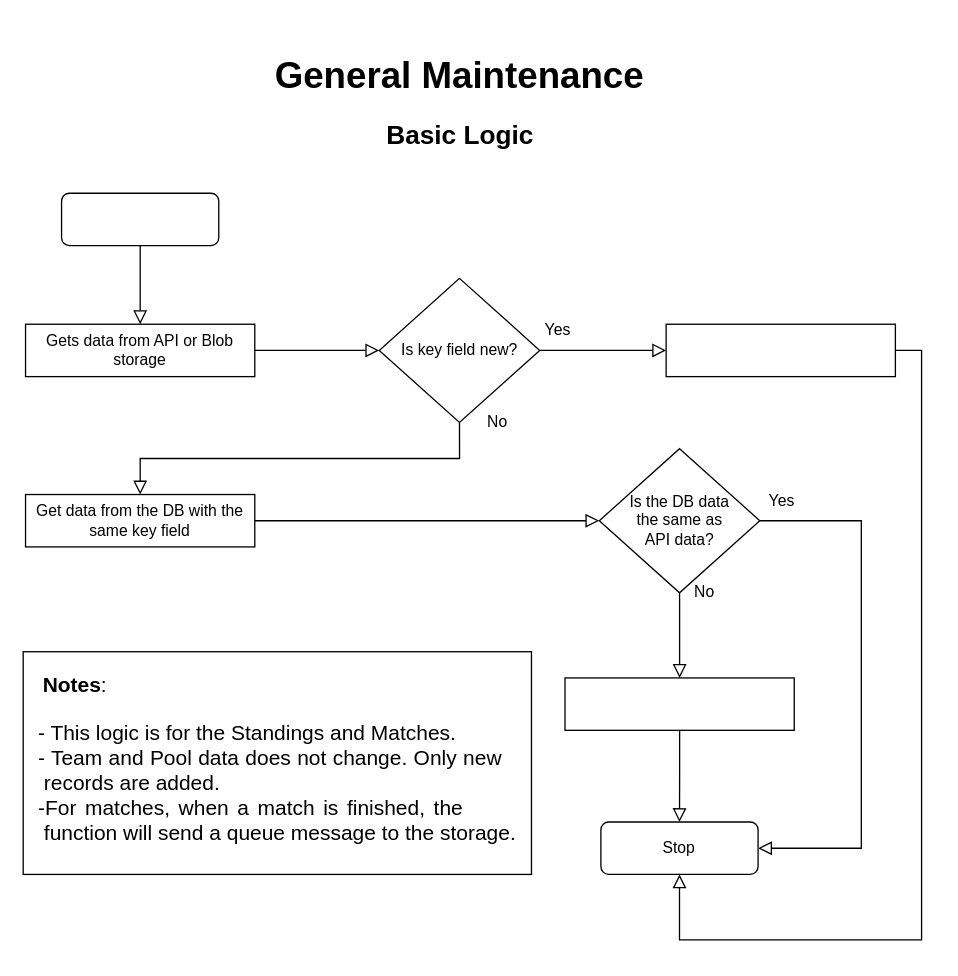
Image size: 958x976. Some labels were removed from this diagram. The box of each missing label's shape, as (x1, y1, x2, y2) in pixels:
Add new record to the DB: (665, 323, 895, 377)
Start: (60, 192, 219, 246)
Update DB fields that have chnaged: (564, 677, 794, 730)
